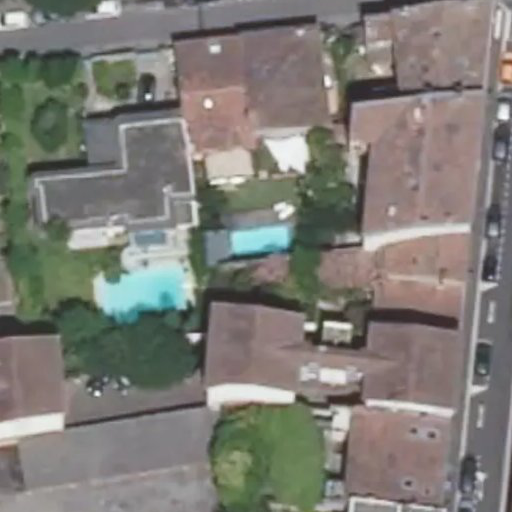pool: (226, 231, 285, 252)
